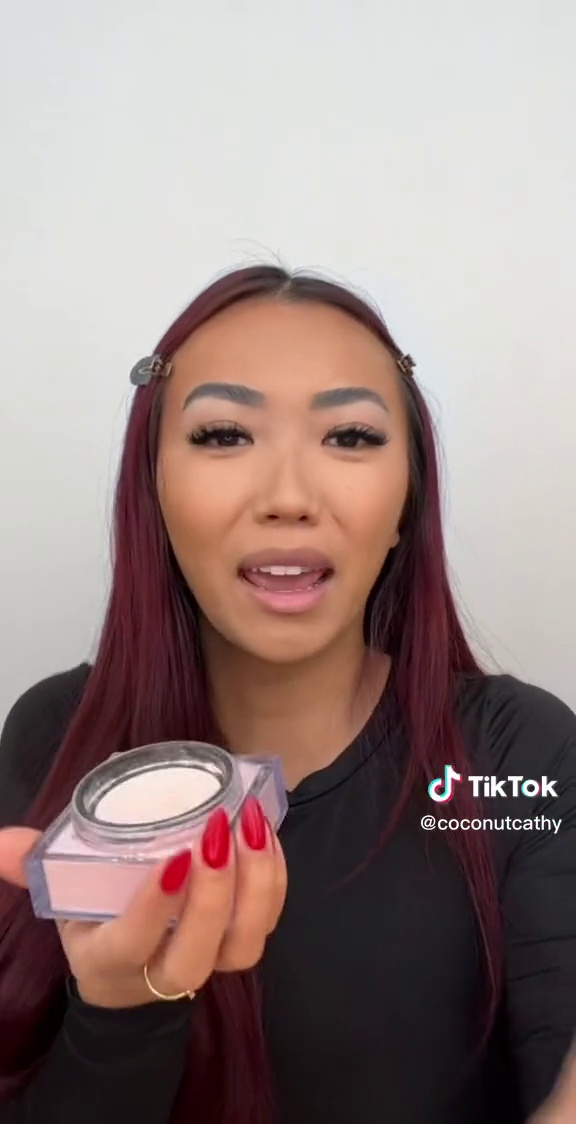train' :'yolo_data/train/images',: (17, 733, 293, 932)
